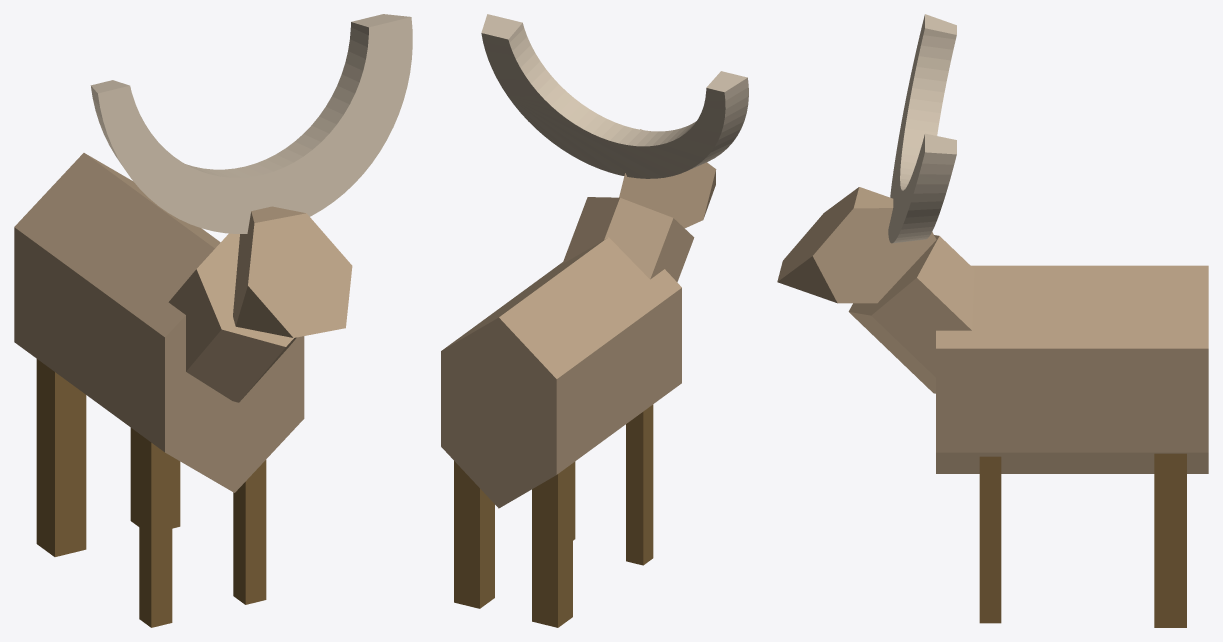
The model's file is deer.gltf.
The picture shows the model from 3 angles, left to right: view 1: azimuth 30°, elevation 25°; view 2: azimuth 150°, elevation 25°; view 3: azimuth 270°, elevation 25°; orthographic projection. The views are drawn at different scales.
Visible parts, largest first — view 1: Mesh_Mesh_head_geo.001_lambert2SG.001; view 2: Mesh_Mesh_head_geo.001_lambert2SG.001; view 3: Mesh_Mesh_head_geo.001_lambert2SG.001.
Part boxes in pixels (<box>): Mesh_Mesh_head_geo.001_lambert2SG.001: <box>14,14,412,627</box>; Mesh_Mesh_head_geo.001_lambert2SG.001: <box>441,14,748,627</box>; Mesh_Mesh_head_geo.001_lambert2SG.001: <box>777,14,1208,627</box>.
Size of the model in its own units: 30 by 52.74 by 39.53.
